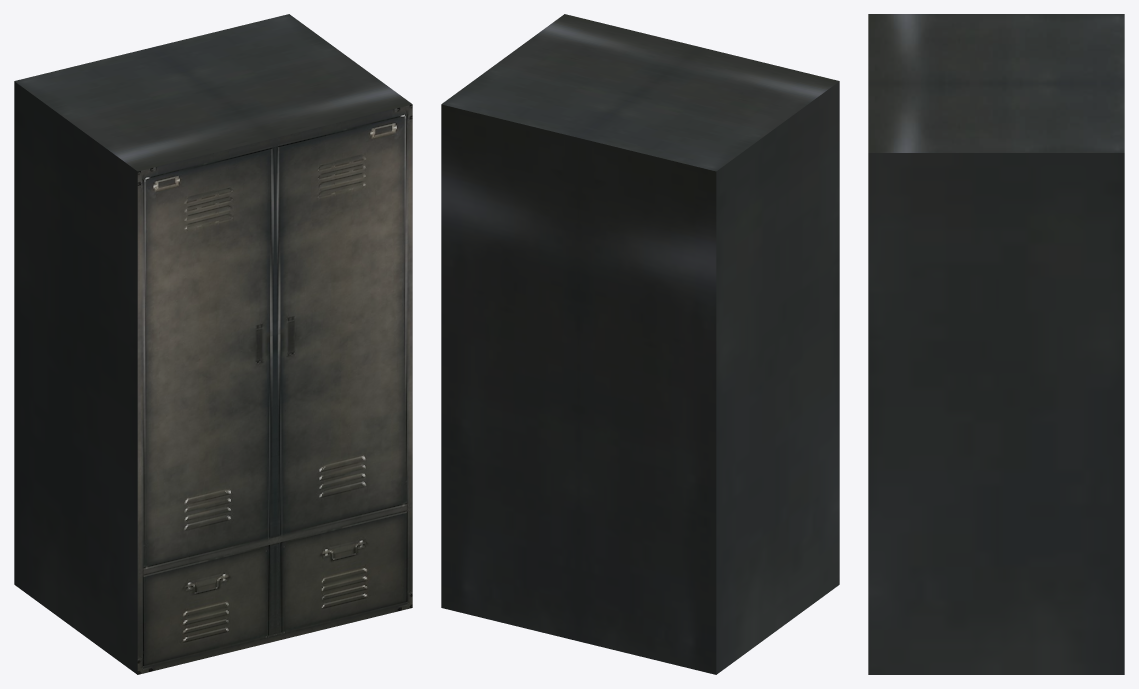
Rendered from officelokcker.gltf.
3 renders of one model, left to right at view 1: azimuth 30°, elevation 25°; view 2: azimuth 150°, elevation 25°; view 3: azimuth 270°, elevation 25°, orthographic. The views are drawn at different scales.
Visible parts, largest first — view 1: Cube; view 2: Cube; view 3: Cube.
Boxes of the visible parts, bbox=[...] form: Cube: bbox=[14, 14, 412, 674]; Cube: bbox=[441, 14, 839, 674]; Cube: bbox=[868, 14, 1124, 674].
Bounding box in the file's own units: 1.94 × 3.39 × 1.51.
Materials: 1 (1 with a texture image).
